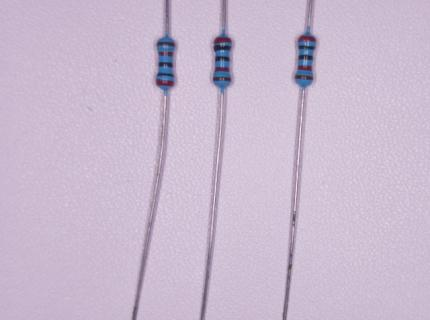Black band: (214, 45, 231, 51), (298, 55, 313, 61), (157, 72, 174, 77), (298, 45, 315, 50), (158, 62, 173, 67), (215, 56, 230, 61)
Brown band: (157, 41, 175, 47), (213, 76, 231, 82), (295, 75, 313, 80)
Red band: (156, 79, 174, 86), (298, 36, 316, 42), (214, 37, 232, 43), (298, 65, 312, 71), (215, 67, 230, 72), (158, 52, 173, 57)
